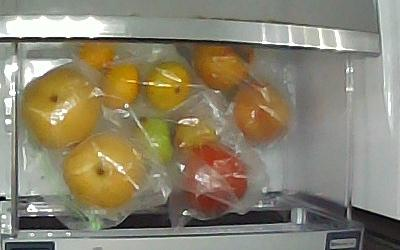peach_vinyl: (233, 84, 293, 143), (190, 43, 255, 90)
pear_vinyl: (23, 65, 102, 152), (64, 128, 145, 208)
tangerine_vinyl: (144, 61, 193, 112), (99, 62, 140, 109), (74, 40, 120, 69)
tomato_vinyl: (180, 146, 248, 215), (130, 114, 174, 169), (174, 116, 222, 149)
